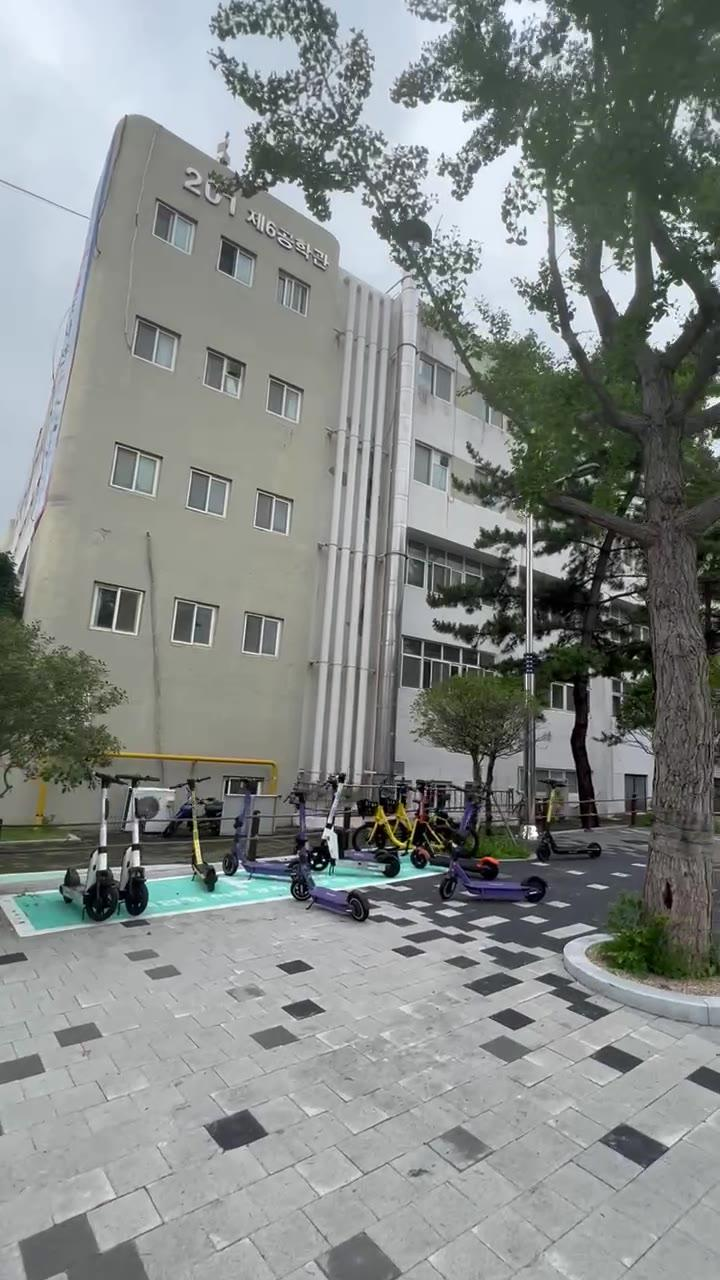building: (38, 128, 402, 686)
